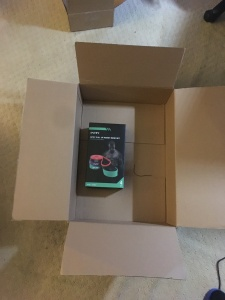innerbox: (76, 83, 175, 226)
outerbox: (24, 43, 223, 278)
product: (87, 122, 123, 190)
